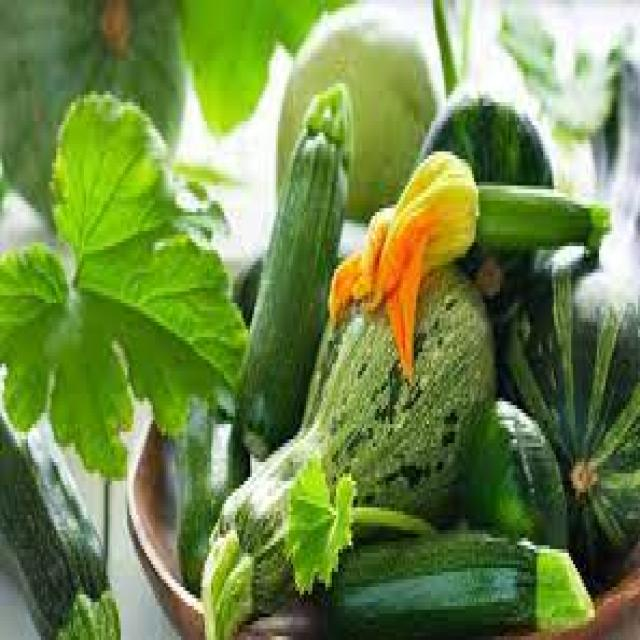Zucchini: (330, 522, 592, 638)
